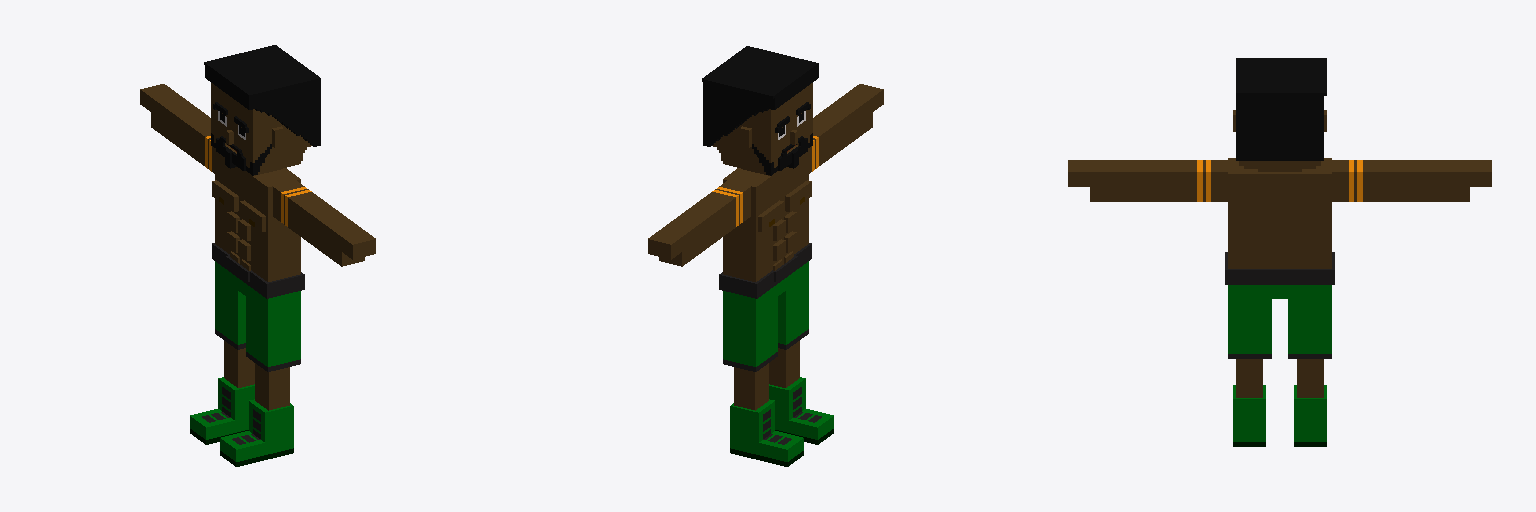
3 views of the same model, side by side, from view 1: azimuth 30°, elevation 25°; view 2: azimuth 150°, elevation 25°; view 3: azimuth 270°, elevation 25° (orthographic).
Visible parts, largest first — view 1: object 1; view 2: object 1; view 3: object 1.
Boxes of the visible parts, x1,y1,x2,y2 form: object 1: [140, 45, 375, 466]; object 1: [648, 46, 883, 466]; object 1: [1068, 58, 1491, 446].
Size of the model in its own units: 3.6 by 14.7 by 15.4.
Materials: 1 (1 with a texture image).